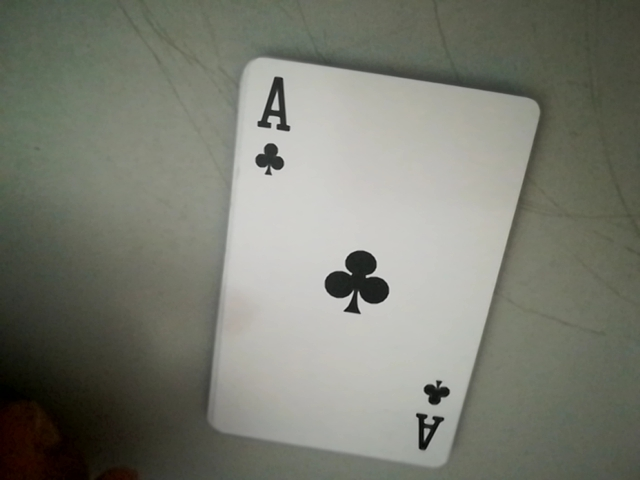mh a: (241, 66, 297, 183), (410, 373, 460, 462)
